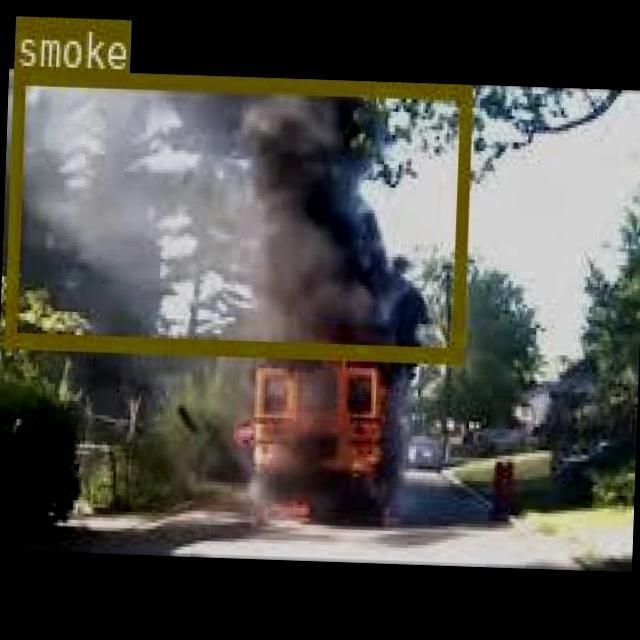smoke: (1, 66, 468, 360)
